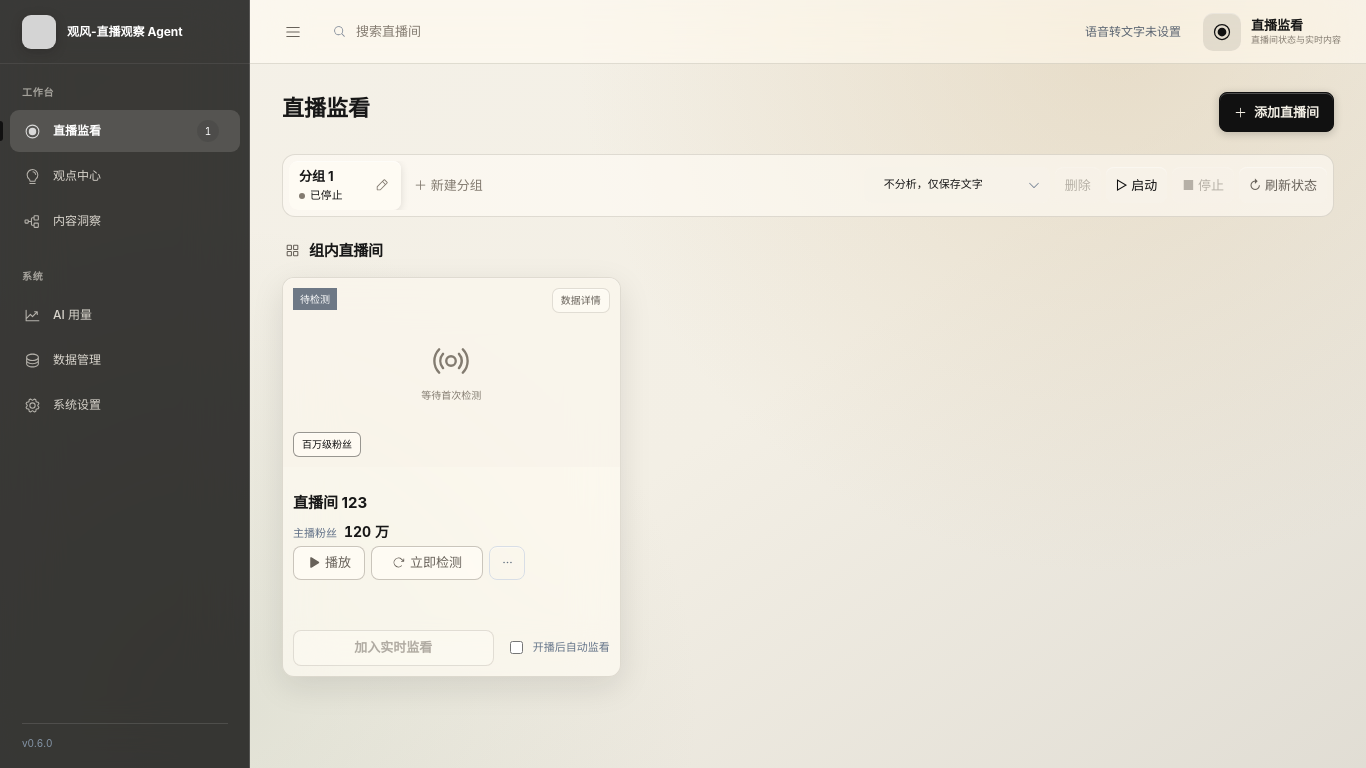
Test: room form › shows transparent labels and opens their local evidence without probing Douyin
Click the button "百万级粉丝".
click(327, 444)  # box [293,432,361,457]
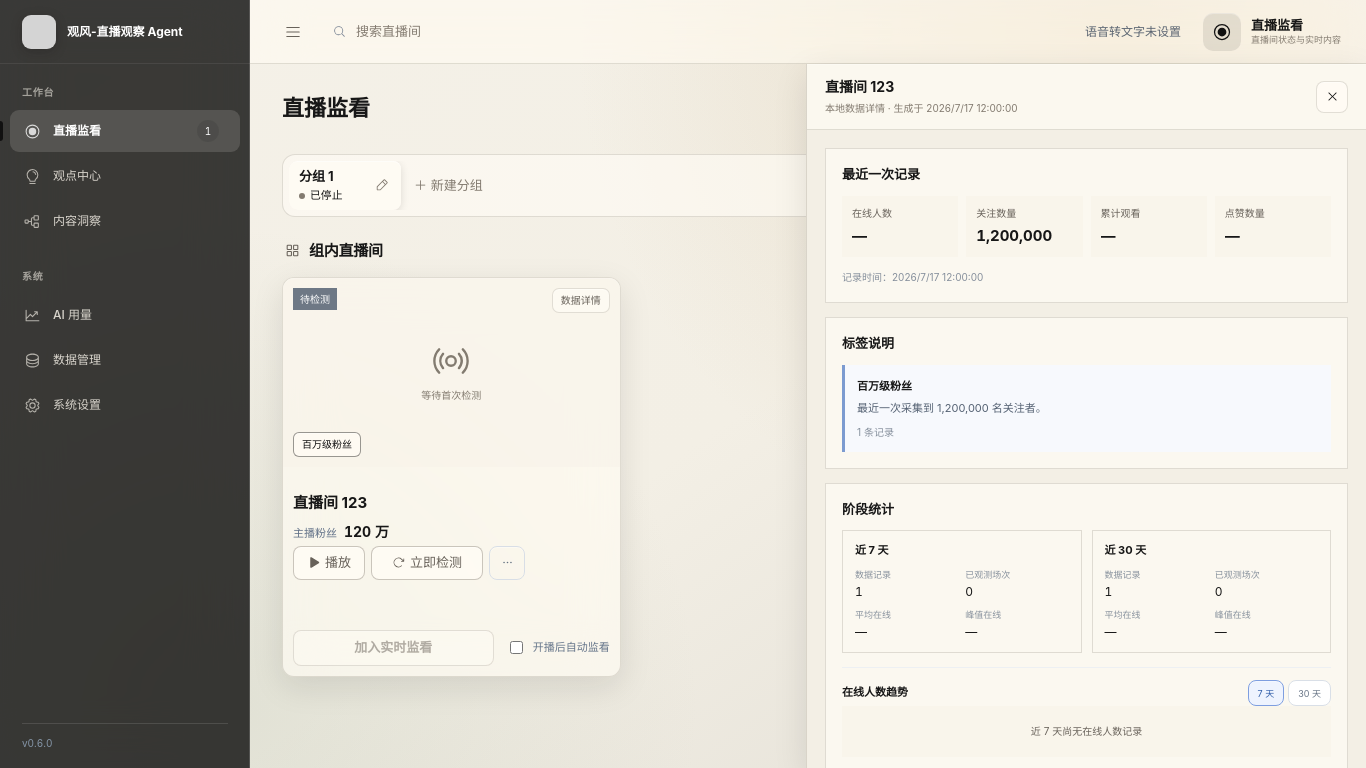
expect the dialog "数据详情" is shown: met, box [806,64,1365,767]
